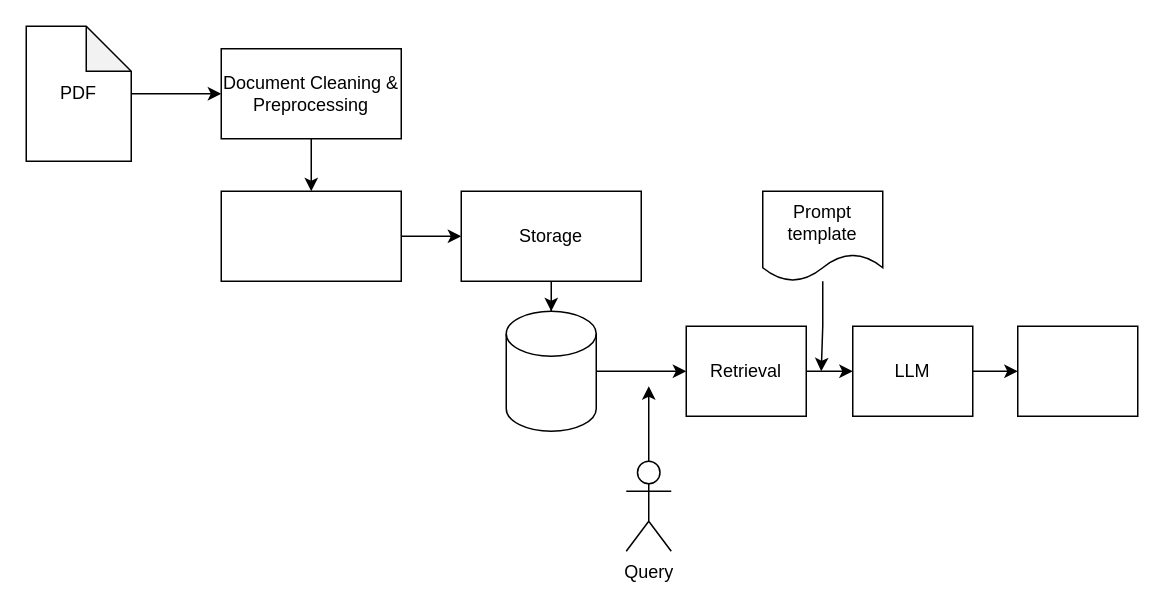
The diagram is 1164 pixels wide and 609 high, and some of its shapes have lost their labels. Each missing label, with the centre of its shape:
FAISS: (550,370)
Output: (1077,370)
Splitting & Chunking: (310,235)
